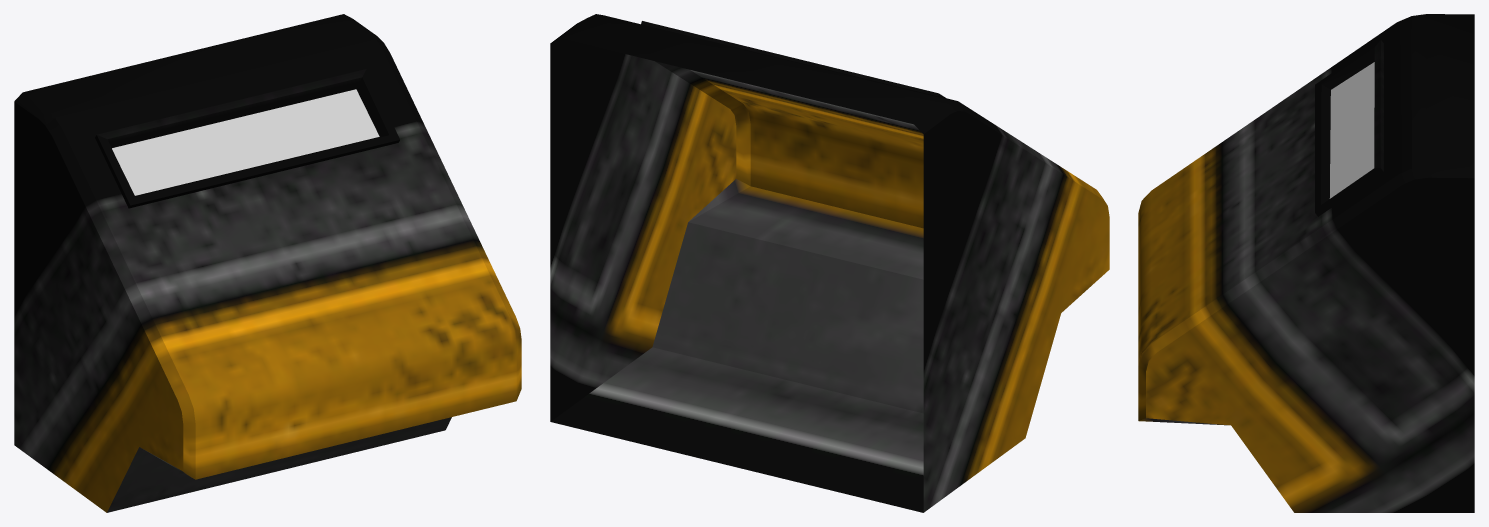
File: 01_05_transporter_passenger_starter_panel.dae
The picture shows the model from 3 angles, left to right: view 1: azimuth 30°, elevation 25°; view 2: azimuth 150°, elevation 25°; view 3: azimuth 270°, elevation 25°; orthographic projection. The views are drawn at different scales.
Parts seen in each view (by area): view 1: starter_panel, screen__2_; view 2: starter_panel; view 3: starter_panel, screen__2_.
Boxes of the visible parts, x1,y1,x2,y2 form: starter_panel: (14,14,521,512); screen__2_: (112,89,379,195); starter_panel: (550,14,1109,512); starter_panel: (1138,14,1474,512); screen__2_: (1329,62,1374,198).
Size of the model in its own units: 0.7393 by 0.7324 by 0.6531.
